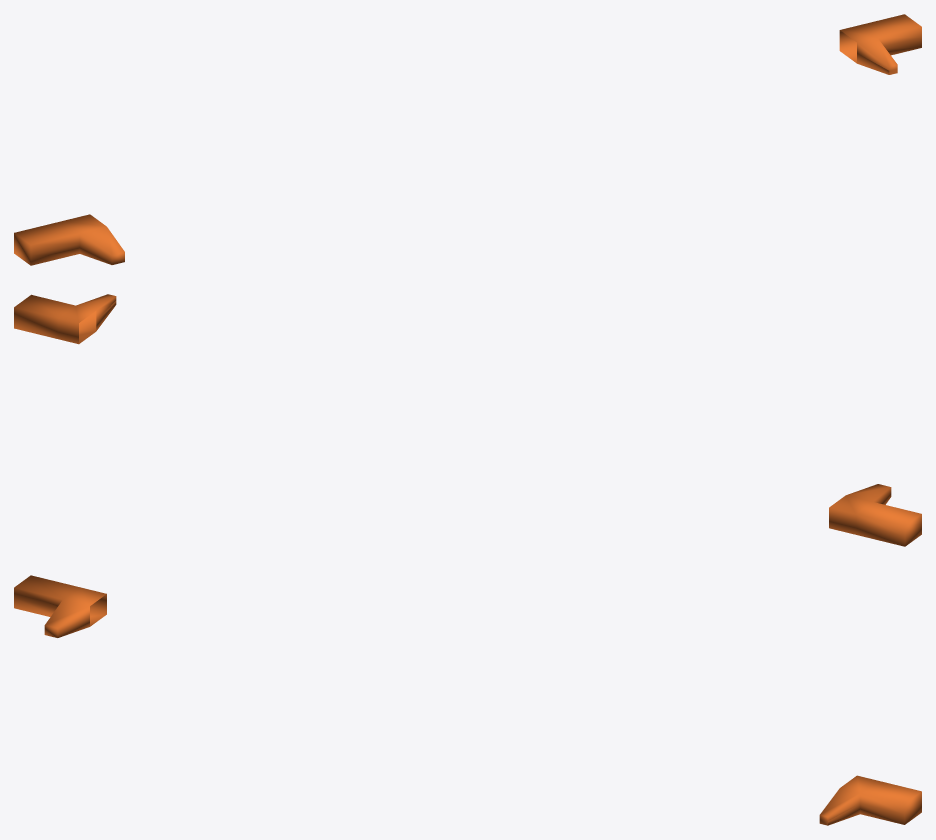
File: inşaatcı eldiveni.fbx
3 views of the same model, one above another, from view 1: azimuth 30°, elevation 25°; view 2: azimuth 150°, elevation 25°; view 3: azimuth 330°, elevation 25° (orthographic).
Visible parts, largest first — view 1: Cube.002, Cube.001; view 2: Cube.002, Cube.001; view 3: Cube.002, Cube.001.
Boxes of the visible parts, x1,y1,x2,y2 form: Cube.002: (14,214,124,265); Cube.001: (839,14,921,74); Cube.002: (829,484,921,546); Cube.001: (14,294,116,344); Cube.002: (14,575,106,637); Cube.001: (819,775,921,825).
Bounding box in the file's own units: 754 × 17.78 × 63.77.
